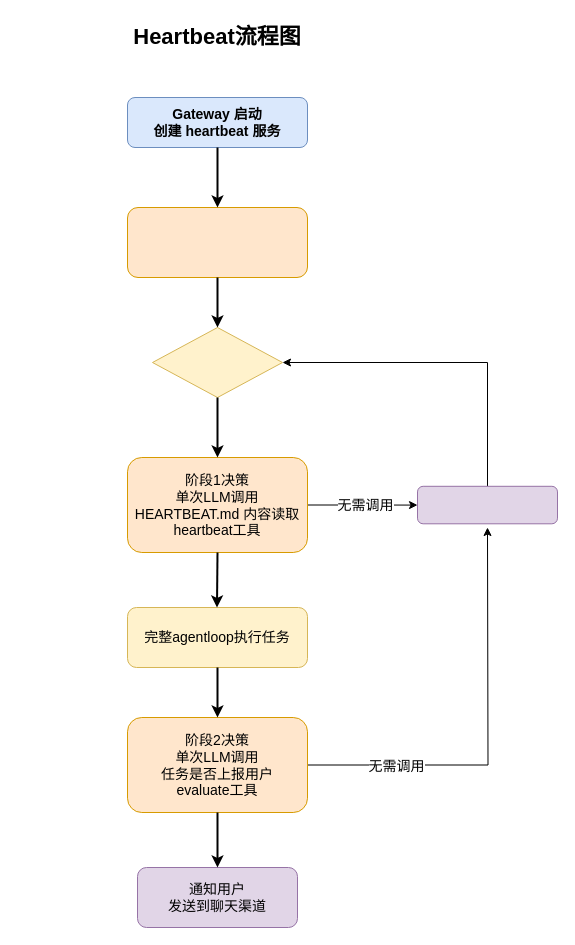
Image size: 575x945. Some labels were removed from this diagram. Here are the shapes that lost their labels. From the top down, the centre of each, then its label:
the point at 217,242: 启动心跳服务 创建 asyncio 任务
the point at 217,362: 心跳loop 30min
the point at 487,504: continue
